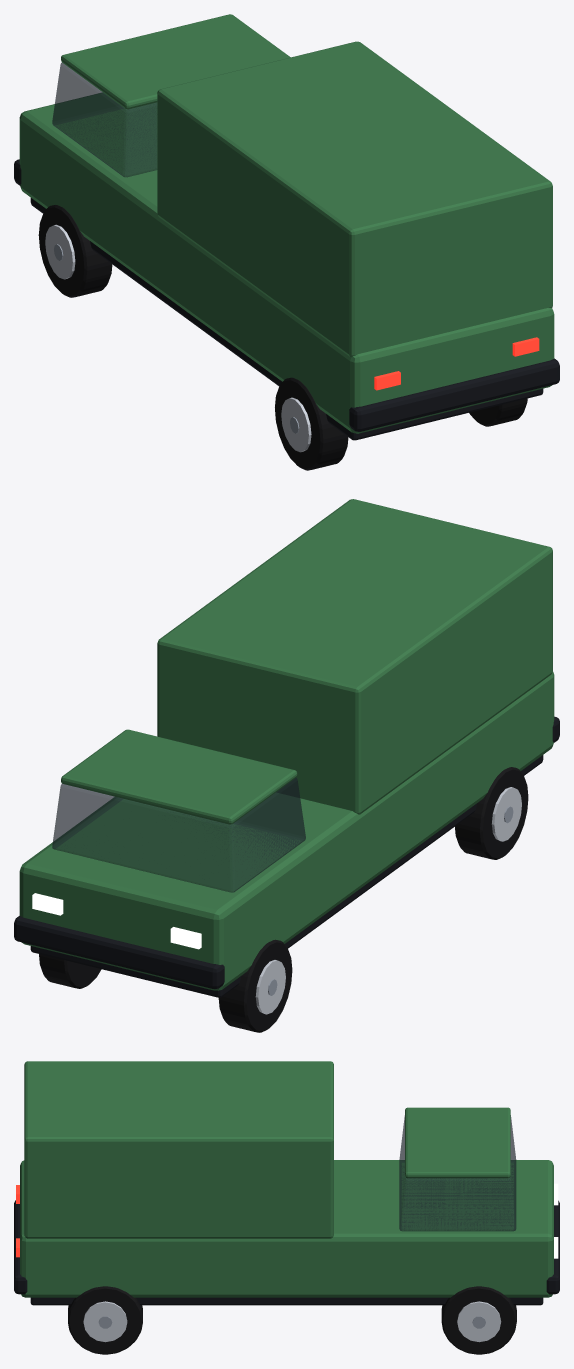
The model's file is veh_truck.glb.
The picture shows the model from 3 angles, top to bottom: view 1: azimuth 30°, elevation 25°; view 2: azimuth 150°, elevation 25°; view 3: azimuth 270°, elevation 25°; orthographic projection. The views are drawn at different scales.
Parts seen in each view (by area): view 1: Cargo, Body, Roof, Glass, Bumper_R, Wheel_RL, Wheel_FL, Skirt, Wheel_RL_Rim, Wheel_FL_Rim, Wheel_RR; view 2: Cargo, Body, Glass, Roof, Bumper_F, Wheel_FL, Wheel_RL, Skirt, Wheel_FR, Wheel_FL_Rim, Wheel_RL_Rim; view 3: Cargo, Body, Roof, Glass, Skirt, Wheel_FR, Wheel_RR, Wheel_FR_Rim, Wheel_RR_Rim, Bumper_R, Bumper_F.
Boxes of the visible parts, x1=… form: Cargo: x1=157, y1=41, x2=552, y2=356; Body: x1=19, y1=92, x2=554, y2=433; Roof: x1=61, y1=14, x2=290, y2=109; Glass: x1=52, y1=62, x2=157, y2=177; Bumper_R: x1=349, y1=358, x2=559, y2=431; Wheel_RL: x1=275, y1=377, x2=348, y2=470; Wheel_FL: x1=38, y1=205, x2=112, y2=297; Skirt: x1=30, y1=198, x2=543, y2=440; Wheel_RL_Rim: x1=281, y1=397, x2=311, y2=452; Wheel_FL_Rim: x1=45, y1=224, x2=75, y2=279; Wheel_RR: x1=469, y1=398, x2=527, y2=426; Cargo: x1=157, y1=499, x2=552, y2=814; Body: x1=19, y1=671, x2=554, y2=990; Glass: x1=52, y1=778, x2=305, y2=892; Roof: x1=61, y1=729, x2=297, y2=824; Bumper_F: x1=14, y1=916, x2=224, y2=989; Wheel_FL: x1=218, y1=939, x2=292, y2=1032; Wheel_RL: x1=455, y1=767, x2=528, y2=859; Skirt: x1=30, y1=755, x2=543, y2=997; Wheel_FR: x1=39, y1=954, x2=101, y2=988; Wheel_FL_Rim: x1=255, y1=960, x2=285, y2=1014; Wheel_RL_Rim: x1=491, y1=787, x2=521, y2=841; Cargo: x1=24, y1=1061, x2=333, y2=1238; Body: x1=20, y1=1160, x2=553, y2=1297; Roof: x1=405, y1=1107, x2=510, y2=1178; Glass: x1=399, y1=1115, x2=516, y2=1231; Skirt: x1=30, y1=1297, x2=543, y2=1305; Wheel_FR: x1=441, y1=1286, x2=516, y2=1354; Wheel_RR: x1=68, y1=1286, x2=142, y2=1354; Wheel_FR_Rim: x1=457, y1=1301, x2=501, y2=1342; Wheel_RR_Rim: x1=83, y1=1301, x2=127, y2=1342; Bumper_R: x1=14, y1=1200, x2=27, y2=1294; Bumper_F: x1=546, y1=1200, x2=559, y2=1294.
Size of the model in its own units: 2.28 by 2.77 by 6.34.
